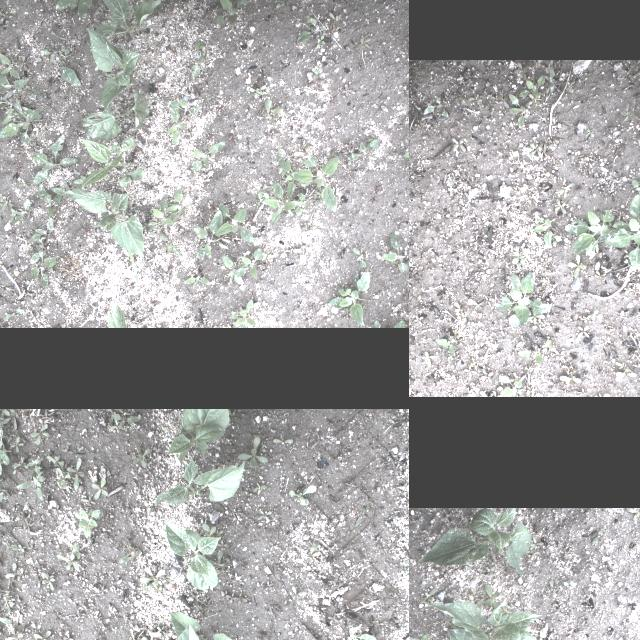crop: (420, 508, 530, 576), (59, 188, 143, 260), (427, 597, 562, 640), (84, 25, 140, 115), (156, 457, 244, 507), (53, 0, 163, 39), (70, 137, 146, 190), (163, 521, 219, 591), (167, 409, 228, 470), (77, 94, 151, 142), (168, 611, 244, 640), (31, 46, 81, 85)
weed: (558, 202, 622, 262), (597, 192, 640, 278), (488, 268, 548, 324), (288, 151, 340, 211), (508, 70, 556, 128), (30, 131, 78, 185), (332, 270, 370, 326), (187, 210, 225, 262), (262, 180, 306, 224), (0, 49, 40, 96), (0, 100, 41, 145), (213, 200, 253, 243), (168, 96, 202, 146), (188, 138, 228, 176), (24, 218, 54, 268), (528, 208, 560, 252), (377, 231, 409, 273), (516, 337, 554, 371), (233, 434, 271, 468), (34, 186, 66, 222), (0, 194, 33, 228), (232, 248, 266, 280), (26, 254, 58, 288), (144, 198, 174, 232), (277, 148, 297, 198), (419, 94, 451, 125), (163, 183, 185, 227), (562, 246, 590, 280), (213, 0, 249, 25), (16, 474, 46, 504), (496, 370, 530, 396), (343, 138, 379, 162), (219, 253, 245, 285), (74, 504, 100, 536), (284, 482, 318, 506), (298, 15, 326, 43), (64, 454, 84, 492), (189, 36, 207, 78), (104, 411, 138, 433), (229, 299, 255, 327), (138, 564, 168, 588), (342, 623, 380, 640), (508, 240, 532, 266), (52, 554, 82, 574), (26, 422, 50, 446), (130, 440, 152, 466), (106, 304, 128, 328), (90, 472, 108, 500), (0, 557, 21, 580), (160, 230, 180, 254), (262, 98, 282, 119), (612, 369, 638, 385), (428, 338, 454, 354), (0, 409, 16, 435), (0, 432, 9, 475), (558, 374, 582, 390), (268, 436, 292, 452), (449, 134, 468, 154), (23, 456, 44, 474), (344, 504, 361, 526), (250, 184, 270, 202), (0, 596, 17, 617), (418, 586, 437, 604), (304, 540, 318, 564), (1, 626, 25, 640), (418, 352, 436, 370), (119, 542, 137, 560), (40, 572, 56, 592), (286, 586, 300, 608), (18, 512, 32, 534), (484, 584, 498, 606), (0, 604, 10, 634), (354, 34, 372, 50), (48, 455, 64, 473), (352, 248, 366, 268), (182, 275, 210, 285), (232, 593, 248, 609), (6, 436, 22, 452), (403, 135, 409, 177), (386, 483, 404, 497), (31, 628, 52, 640), (197, 524, 220, 534), (462, 363, 476, 379), (215, 545, 223, 573), (56, 472, 66, 494), (480, 368, 492, 386), (254, 508, 272, 520), (246, 482, 264, 494), (590, 528, 604, 542), (625, 507, 640, 520), (105, 624, 121, 636), (476, 587, 484, 609), (151, 586, 163, 600), (409, 632, 430, 640), (248, 86, 264, 96), (577, 325, 587, 341), (144, 502, 154, 518), (547, 579, 555, 599), (266, 540, 278, 552), (219, 592, 231, 604), (61, 444, 73, 456), (485, 564, 497, 576), (527, 547, 539, 559), (315, 34, 325, 48), (532, 536, 542, 550), (1, 543, 23, 549), (128, 629, 140, 640), (0, 8, 8, 24), (311, 66, 321, 78), (70, 544, 80, 556), (60, 632, 75, 640), (0, 488, 7, 505), (326, 12, 339, 21), (392, 320, 406, 328), (98, 409, 125, 413), (145, 536, 155, 546), (403, 551, 409, 567), (232, 409, 242, 418), (562, 580, 576, 586), (372, 318, 380, 328), (272, 0, 282, 7)
